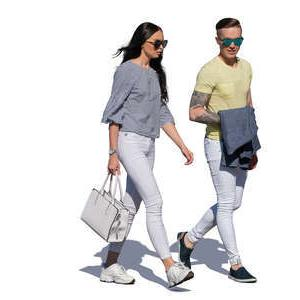short sleeve shirt: (99, 59, 175, 139), (192, 54, 255, 140)
trousers: (108, 129, 172, 261), (187, 136, 248, 264)
